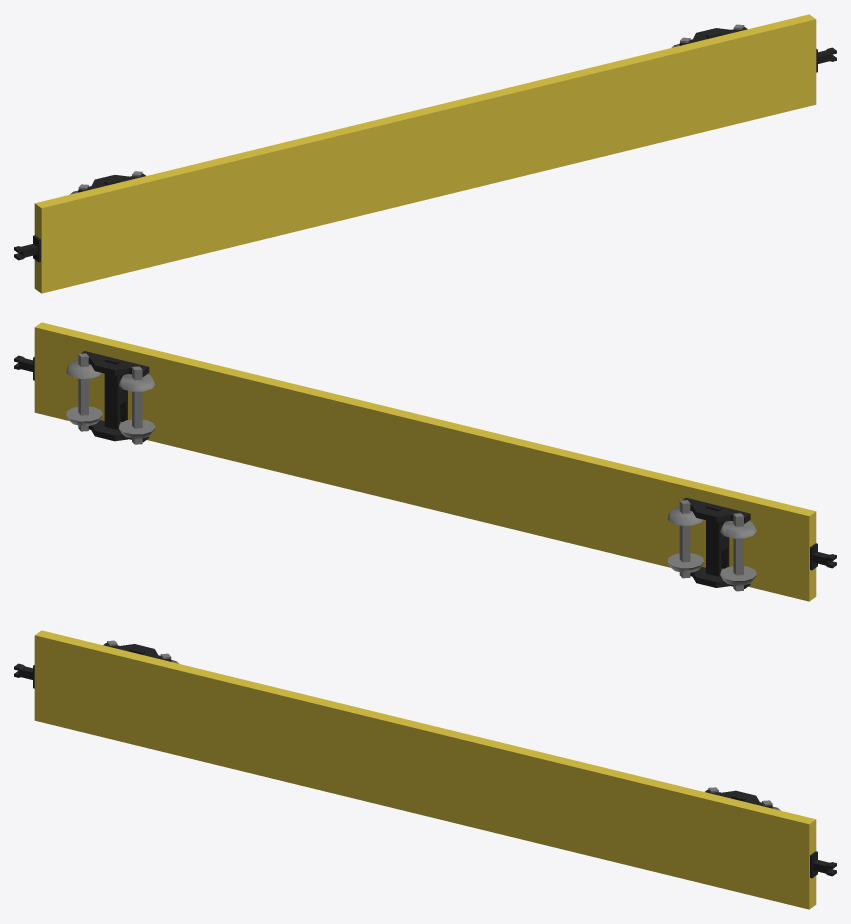
Rendered from intermodal_flat_car_90.6ft_unloaded.dae.
3 views of the same model, one above another, from view 1: azimuth 30°, elevation 25°; view 2: azimuth 150°, elevation 25°; view 3: azimuth 330°, elevation 25° (orthographic).
Parts seen in each view (by area): view 1: coords_ME_ID150_MA_Platform; view 2: coords_ME_ID150_MA_Platform, coords_ME_ID44_MA_Frame, coords_ME_ID118_MA_Frame, coords_ME_ID52_MA_Frame, coords_ME_ID124_MA_Frame, coords_ME_ID93_MA_Wheels, coords_ME_ID25_MA_Wheels, coords_ME_ID99_MA_Wheels, coords_ME_ID19_MA_Wheels; view 3: coords_ME_ID150_MA_Platform.
Part boxes in pixels (x1,y1,x2,y2): coords_ME_ID150_MA_Platform: (34,14,816,293); coords_ME_ID150_MA_Platform: (34,322,816,601); coords_ME_ID44_MA_Frame: (104,357,127,429); coords_ME_ID118_MA_Frame: (706,504,729,576); coords_ME_ID52_MA_Frame: (81,351,149,376); coords_ME_ID124_MA_Frame: (682,497,750,523); coords_ME_ID93_MA_Wheels: (679,500,690,578); coords_ME_ID25_MA_Wheels: (132,366,142,444); coords_ME_ID99_MA_Wheels: (733,513,743,591); coords_ME_ID19_MA_Wheels: (78,353,88,431); coords_ME_ID150_MA_Platform: (34,630,816,909).
Bounding box in the file's own units: 276 × 27.5 × 15.49.
